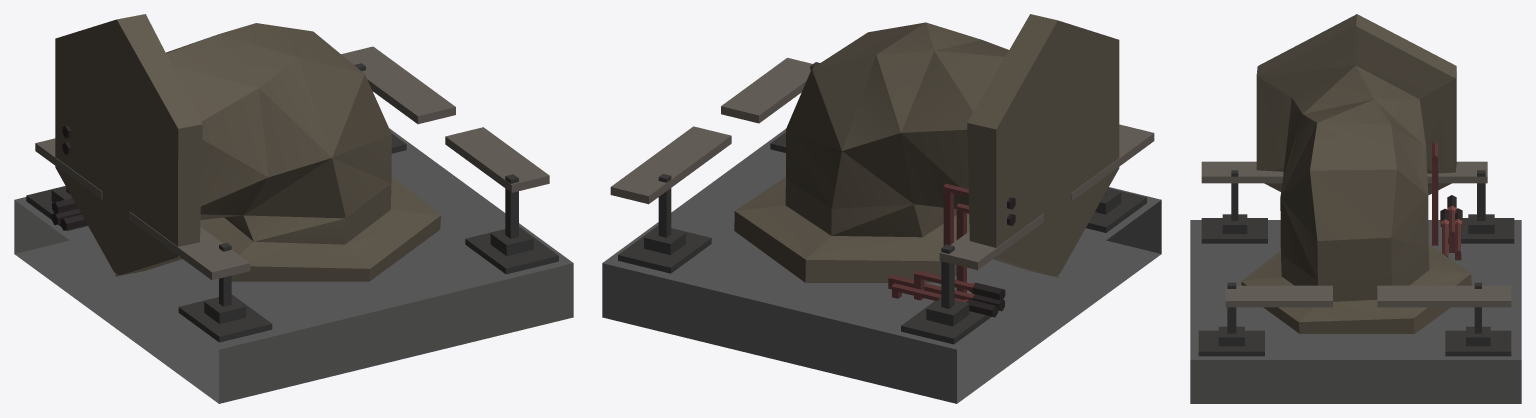
The model's file is pipe-down.gltf.
3 views of the same model, side by side, from view 1: azimuth 30°, elevation 25°; view 2: azimuth 150°, elevation 25°; view 3: azimuth 270°, elevation 25° (orthographic). The views are drawn at different scales.
Visible parts, largest first — view 1: skret w dol; view 2: skret w dol; view 3: skret w dol.
Boxes of the visible parts, left/top/right/bottom form: skret w dol: left=14, top=14, right=573, bottom=403; skret w dol: left=602, top=14, right=1161, bottom=403; skret w dol: left=1190, top=14, right=1521, bottom=403.
Bounding box in the file's own units: 2.01 × 1.66 × 2.
1 material, 1 textured.
